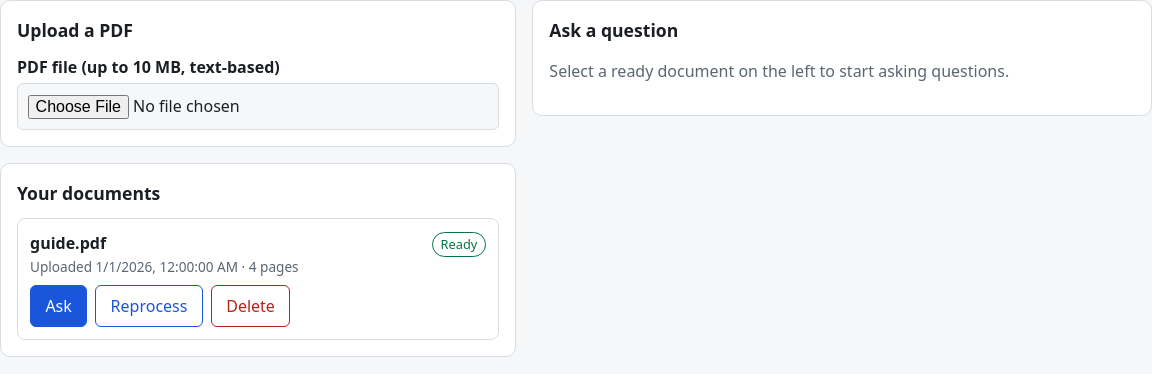
Workspace › selecting a document opens the question panel
The image size is (1152, 374).
Click the button with aria-label "Ask questions about guide.pdf": point(59, 306) x1=30 y1=285 x2=87 y2=327
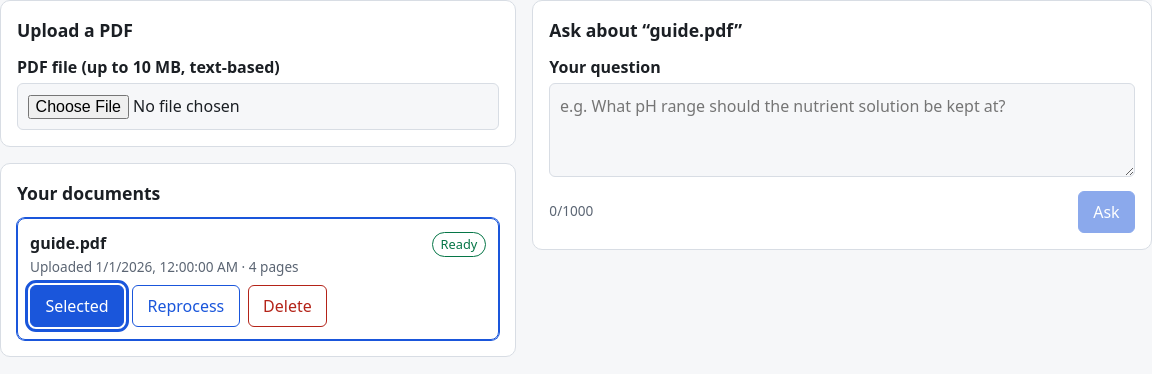
Expected: the heading "Ask about “guide.pdf”" is shown, x1=549 y1=18 x2=742 y2=42
